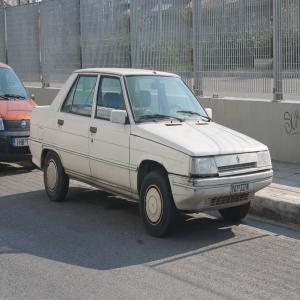Vehicle-registration-plate: (232, 183, 250, 195), (15, 139, 33, 150)
